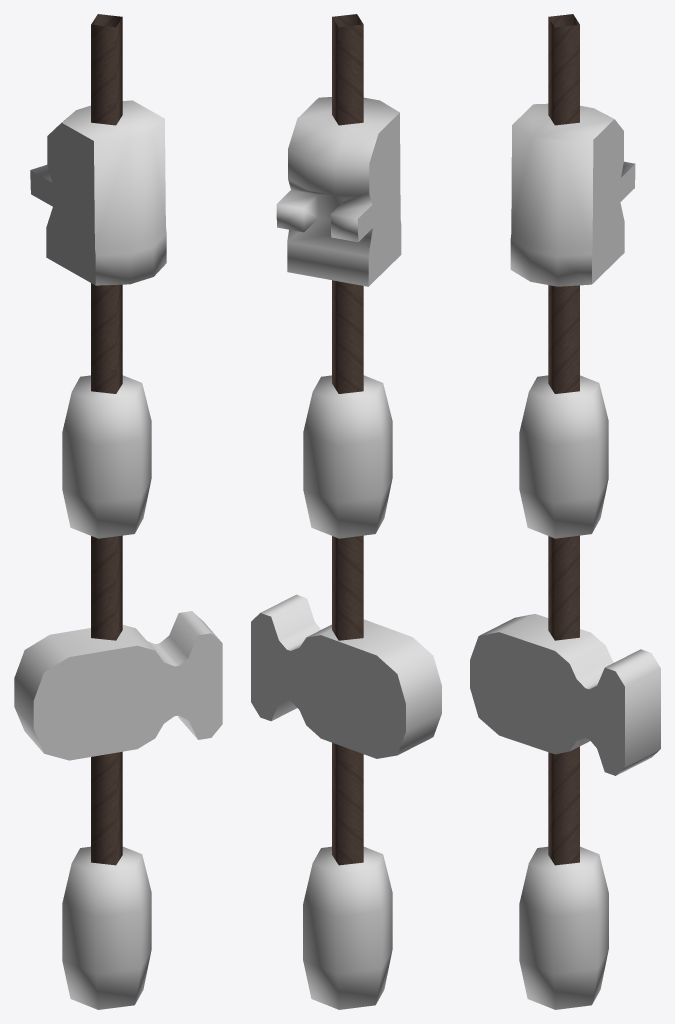
Rendered from Coast Charms 2.fbx.
The picture shows the model from 3 angles, left to right: view 1: azimuth 30°, elevation 25°; view 2: azimuth 150°, elevation 25°; view 3: azimuth 330°, elevation 25°; orthographic projection.
Parts seen in each view (by area): view 1: Charms 2; view 2: Charms 2; view 3: Charms 2.
Part boxes in pixels (x1,y1,x2,y2): Charms 2: (14,14,222,1009); Charms 2: (251,14,441,1009); Charms 2: (470,14,660,1009).
Size of the model in its own units: 197 by 1019 by 127.
